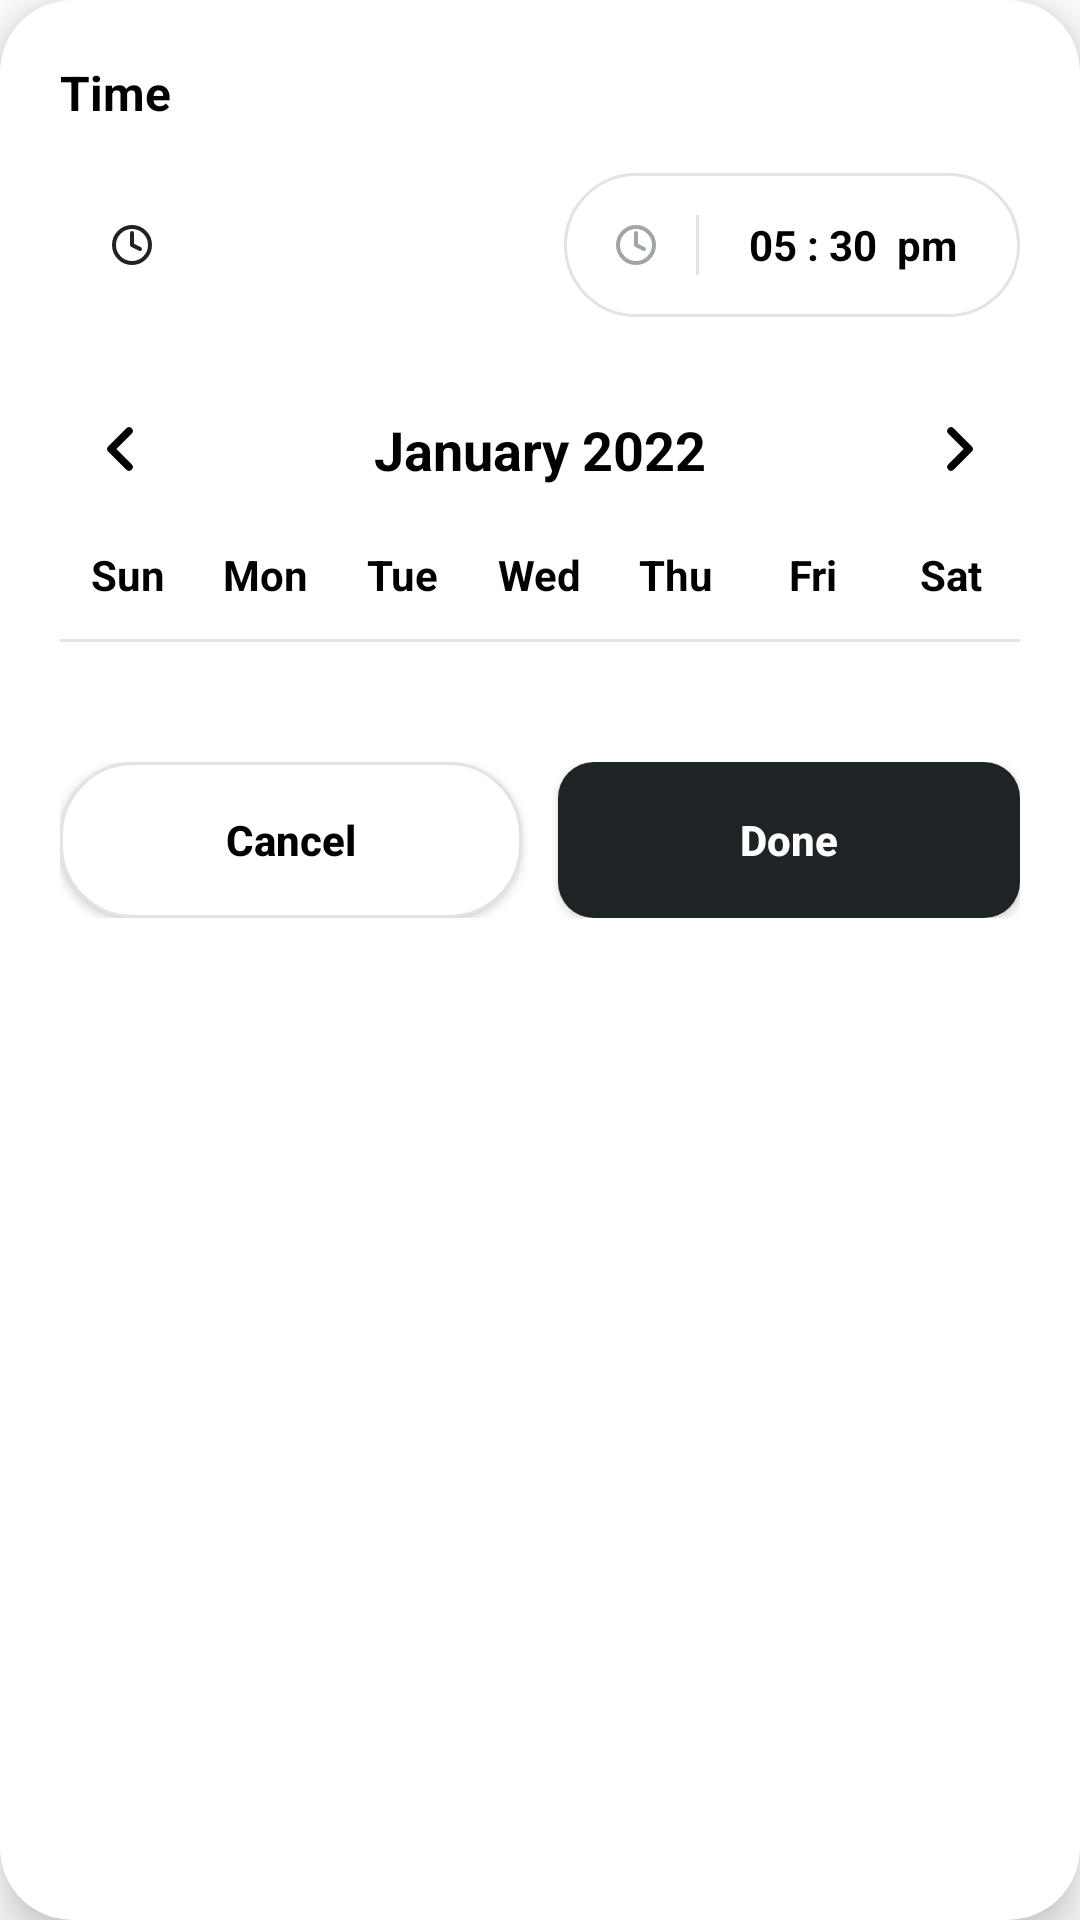

Icons on this 1080 x 1920 Android screen, each with its box as [x1=x1, y1=y1, x2=x2, y2=y2]:
clock line: [x1=112, y1=225, x2=152, y2=265], [x1=616, y1=225, x2=656, y2=265]
